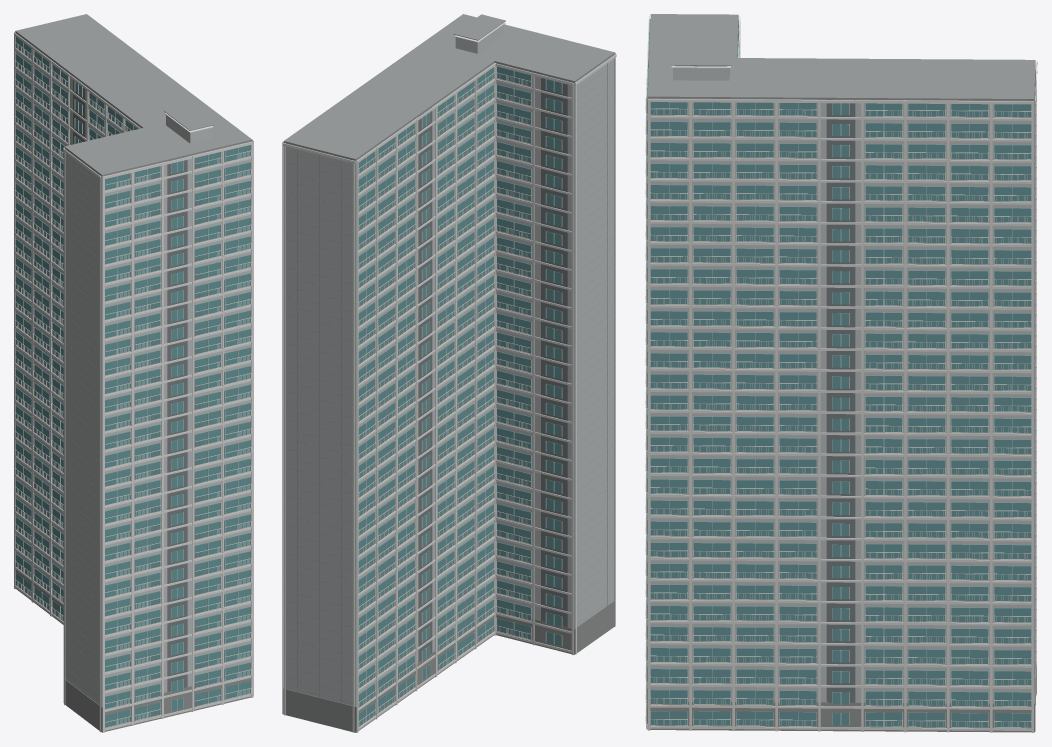
The model's file is bespoke-jamsil-ricenz-219.glb.
3 views of the same model, side by side, from view 1: azimuth 30°, elevation 25°; view 2: azimuth 150°, elevation 25°; view 3: azimuth 270°, elevation 25° (orthographic). The views are drawn at different scales.
Visible parts, largest first — view 1: Ricenz219_editable_Ricenz219_turquoise_balcony_glazing, Ricenz219_editable_Ricenz219_light_grey_solid_wall, Ricenz219_white_exact_chunk_0, Ricenz219_white_exact_chunk_1, Ricenz219_editable_Ricenz219_modest_grey_flat_roof_caps, Ricenz219_white_exact_chunk_5, Ricenz219_editable_Ricenz219_narrow_charcoal_service_strips, Ricenz219_white_exact_chunk_6, Ricenz219_white_exact_chunk_8, Ricenz219_editable_Ricenz219_muted_ground_wall, Ricenz219_white_exact_chunk_7; view 2: Ricenz219_editable_Ricenz219_light_grey_solid_wall, Ricenz219_editable_Ricenz219_turquoise_balcony_glazing, Ricenz219_white_exact_chunk_8, Ricenz219_editable_Ricenz219_modest_grey_flat_roof_caps, Ricenz219_white_exact_chunk_6, Ricenz219_editable_Ricenz219_narrow_charcoal_service_strips, Ricenz219_white_exact_chunk_5, Ricenz219_white_exact_chunk_7, Ricenz219_editable_Ricenz219_muted_ground_wall, Ricenz219_white_exact_chunk_0, Ricenz219_white_exact_chunk_1; view 3: Ricenz219_editable_Ricenz219_turquoise_balcony_glazing, Ricenz219_editable_Ricenz219_light_grey_solid_wall, Ricenz219_white_exact_chunk_5, Ricenz219_white_exact_chunk_3, Ricenz219_white_exact_chunk_4, Ricenz219_white_exact_chunk_2, Ricenz219_editable_Ricenz219_modest_grey_flat_roof_caps, Ricenz219_editable_Ricenz219_narrow_charcoal_service_strips, Ricenz219_white_exact_chunk_1, Ricenz219_editable_Ricenz219_muted_ground_wall.
Boxes of the visible parts, <box> form: Ricenz219_editable_Ricenz219_turquoise_balcony_glazing: <box>16,37,250,727</box>; Ricenz219_editable_Ricenz219_light_grey_solid_wall: <box>15,32,252,706</box>; Ricenz219_white_exact_chunk_0: <box>63,148,222,732</box>; Ricenz219_white_exact_chunk_1: <box>102,141,253,732</box>; Ricenz219_editable_Ricenz219_modest_grey_flat_roof_caps: <box>15,14,252,702</box>; Ricenz219_white_exact_chunk_5: <box>14,32,253,696</box>; Ricenz219_editable_Ricenz219_narrow_charcoal_service_strips: <box>73,76,187,691</box>; Ricenz219_white_exact_chunk_6: <box>33,50,86,623</box>; Ricenz219_white_exact_chunk_8: <box>14,32,213,702</box>; Ricenz219_editable_Ricenz219_muted_ground_wall: <box>15,566,250,732</box>; Ricenz219_white_exact_chunk_7: <box>88,92,123,140</box>; Ricenz219_editable_Ricenz219_light_grey_solid_wall: <box>283,25,615,706</box>; Ricenz219_editable_Ricenz219_turquoise_balcony_glazing: <box>358,66,561,726</box>; Ricenz219_white_exact_chunk_8: <box>356,22,573,732</box>; Ricenz219_editable_Ricenz219_modest_grey_flat_roof_caps: <box>283,14,615,703</box>; Ricenz219_white_exact_chunk_6: <box>377,112,455,701</box>; Ricenz219_editable_Ricenz219_narrow_charcoal_service_strips: <box>418,74,567,661</box>; Ricenz219_white_exact_chunk_5: <box>282,141,395,732</box>; Ricenz219_white_exact_chunk_7: <box>437,81,494,660</box>; Ricenz219_editable_Ricenz219_muted_ground_wall: <box>283,601,614,732</box>; Ricenz219_white_exact_chunk_0: <box>575,54,616,654</box>; Ricenz219_white_exact_chunk_1: <box>615,53,615,624</box>; Ricenz219_editable_Ricenz219_turquoise_balcony_glazing: <box>647,19,1031,727</box>; Ricenz219_editable_Ricenz219_light_grey_solid_wall: <box>647,17,1035,703</box>; Ricenz219_white_exact_chunk_5: <box>647,61,1037,732</box>; Ricenz219_white_exact_chunk_3: <box>735,103,946,730</box>; Ricenz219_white_exact_chunk_4: <box>906,104,1031,730</box>; Ricenz219_white_exact_chunk_2: <box>650,102,775,729</box>; Ricenz219_editable_Ricenz219_modest_grey_flat_roof_caps: <box>647,14,1036,699</box>; Ricenz219_editable_Ricenz219_narrow_charcoal_service_strips: <box>648,20,855,702</box>; Ricenz219_white_exact_chunk_1: <box>645,15,689,729</box>; Ricenz219_editable_Ricenz219_muted_ground_wall: <box>647,664,1036,732</box>.
Size of the model in its own units: 26.09 by 90.96 by 49.78.
